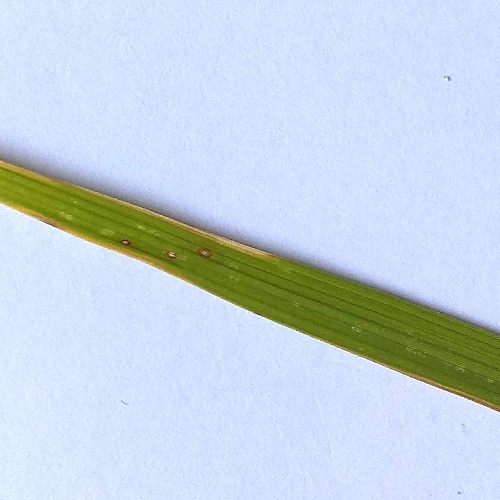Busuk Leher: (195, 234, 220, 265), (108, 230, 136, 257), (160, 246, 182, 268)
